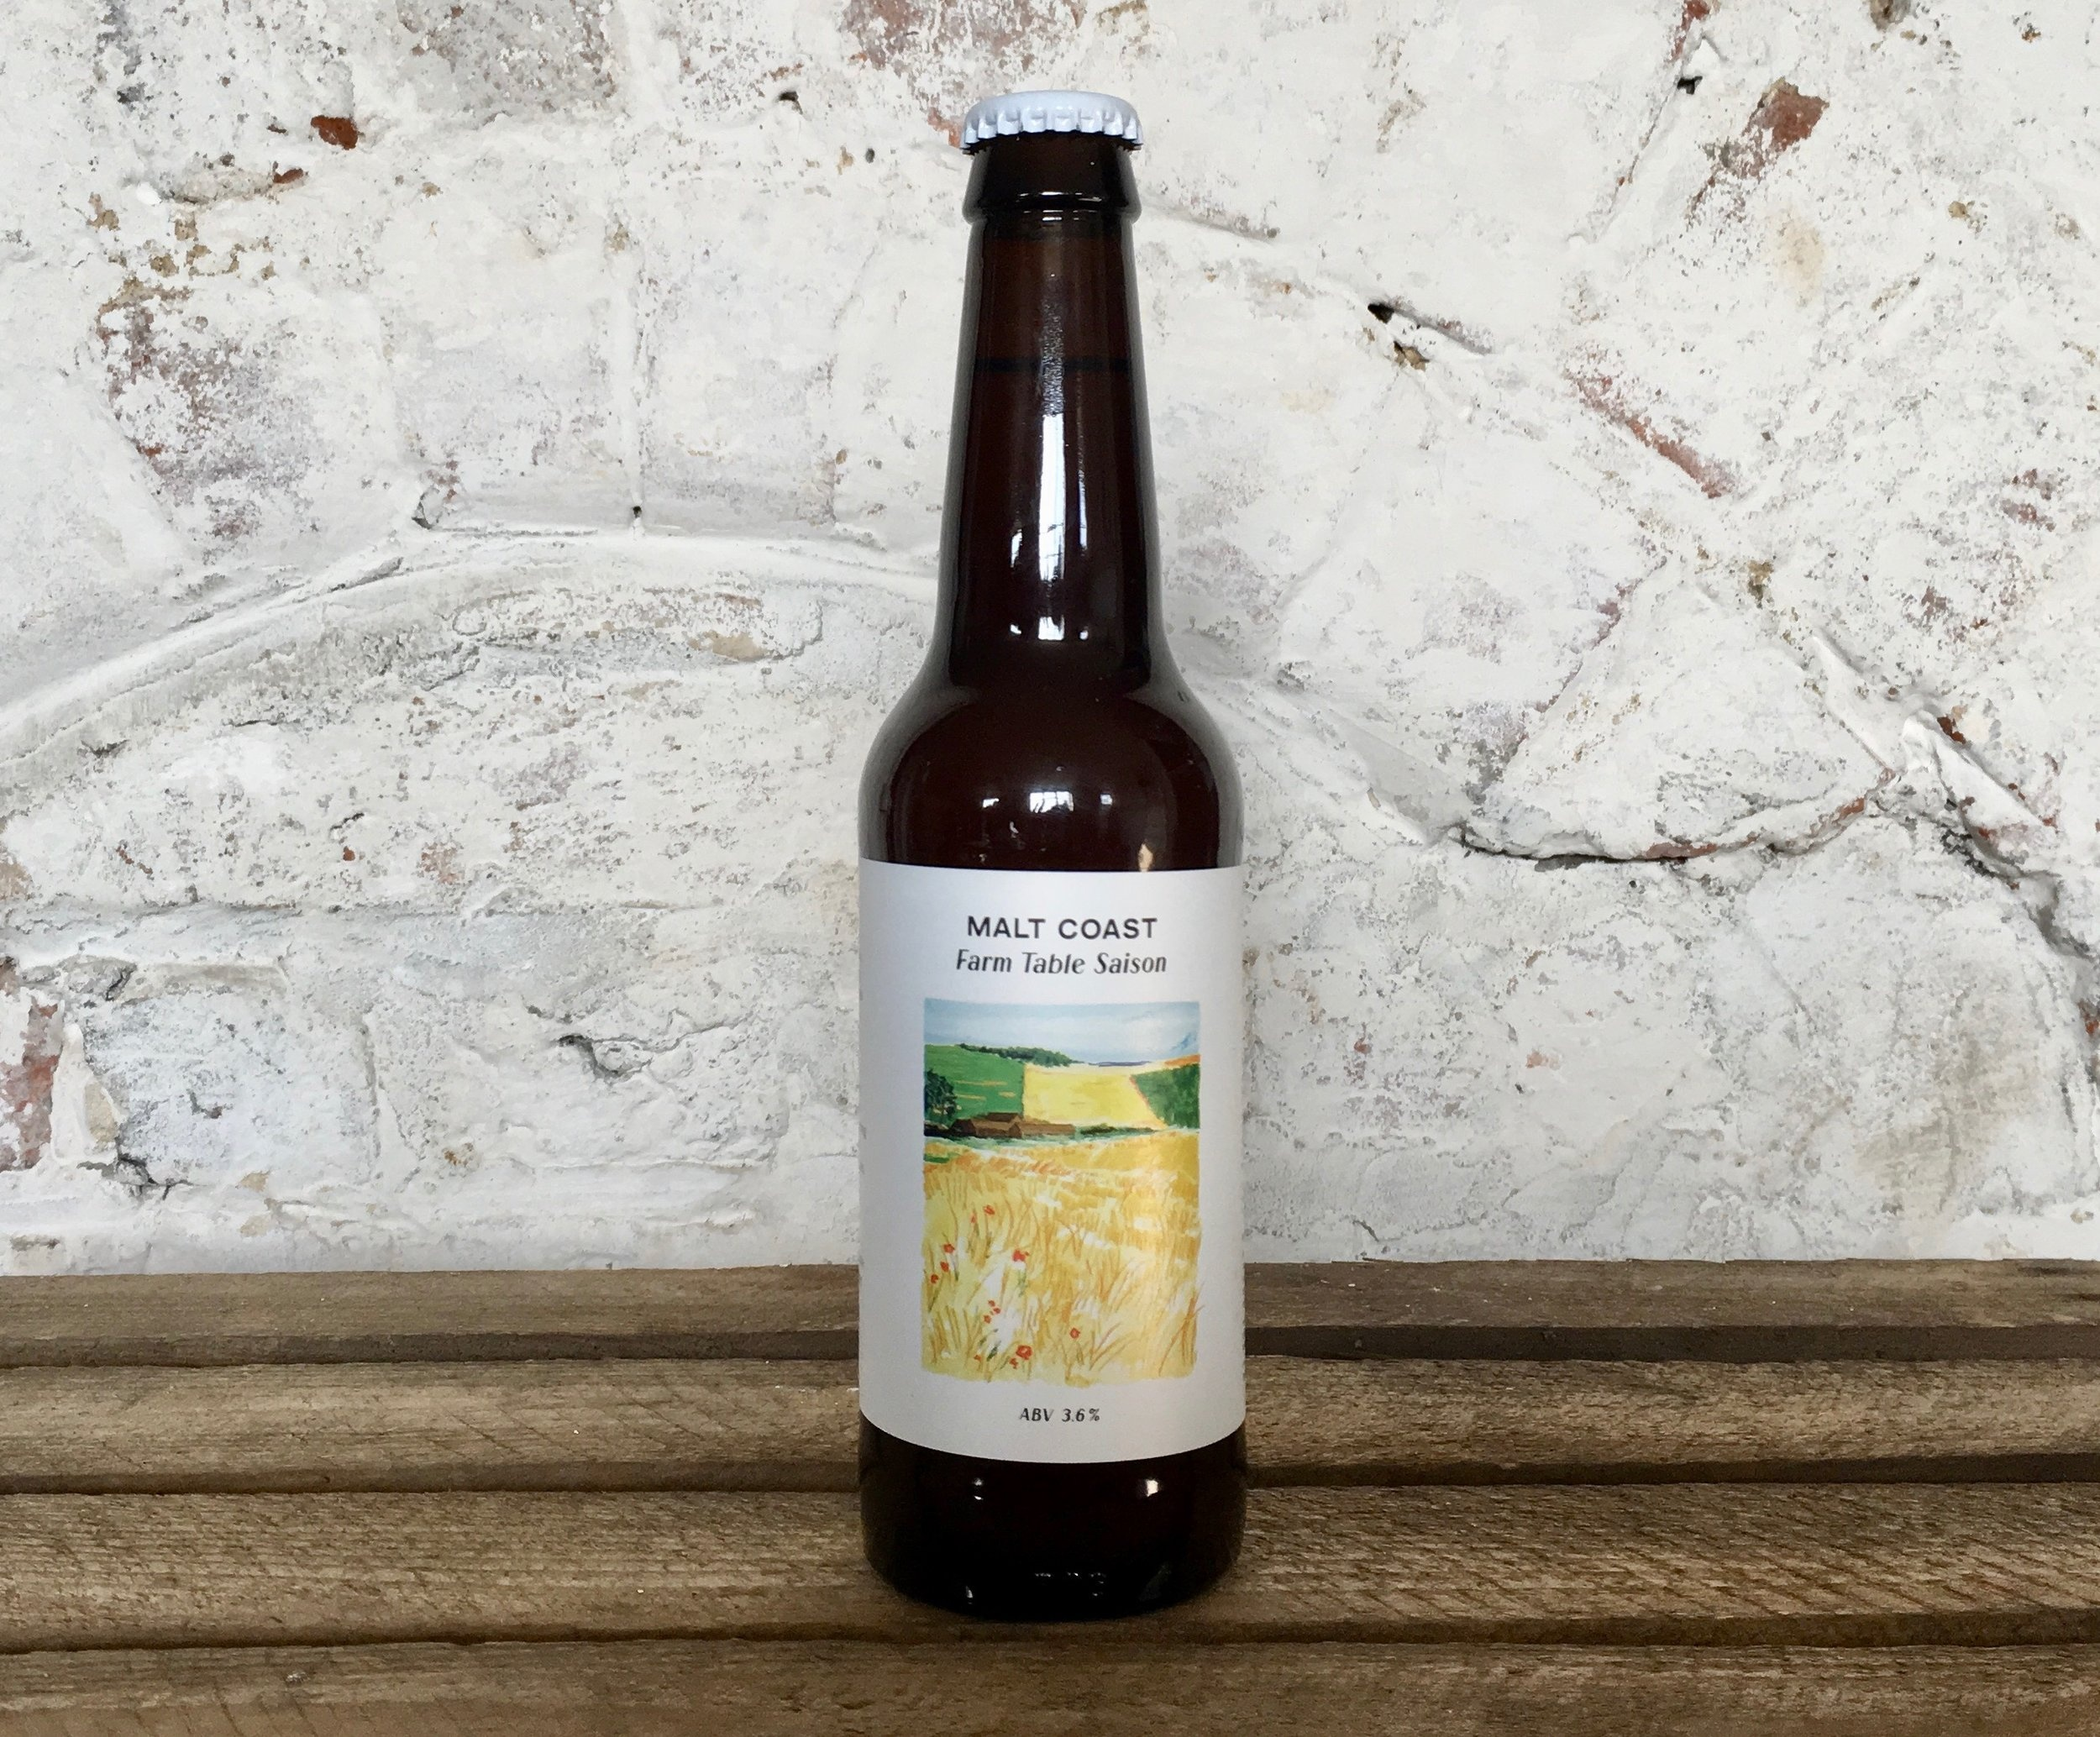beerBottle: (851, 136, 1244, 1585)
